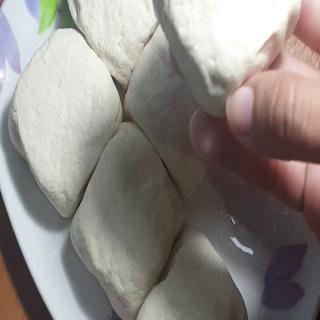Tahu: (4, 1, 254, 320)
